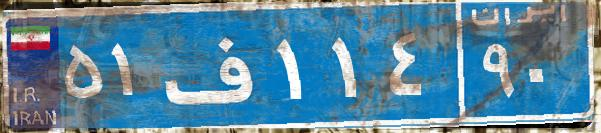0: (525, 38, 570, 115)
1: (273, 28, 330, 110), (330, 28, 385, 110), (110, 28, 158, 105)
4: (385, 28, 445, 110)
5: (57, 26, 110, 107)
9: (475, 38, 525, 113)
ف: (158, 15, 273, 115)
